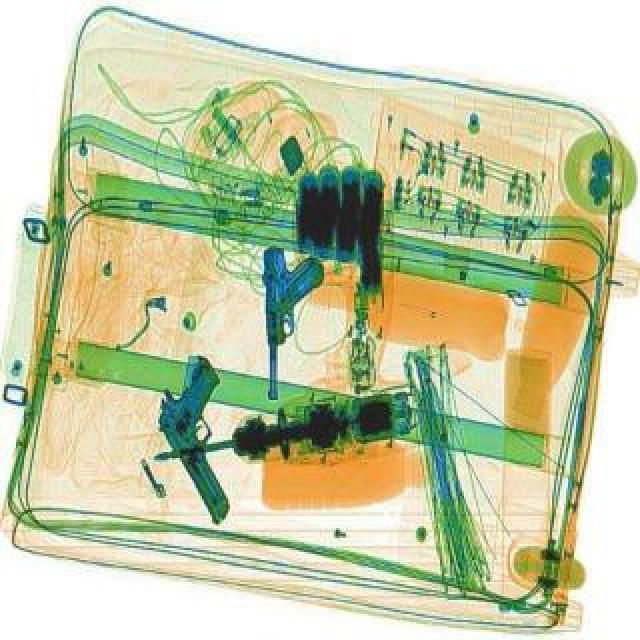gun: (136, 350, 284, 526), (260, 244, 328, 398)
